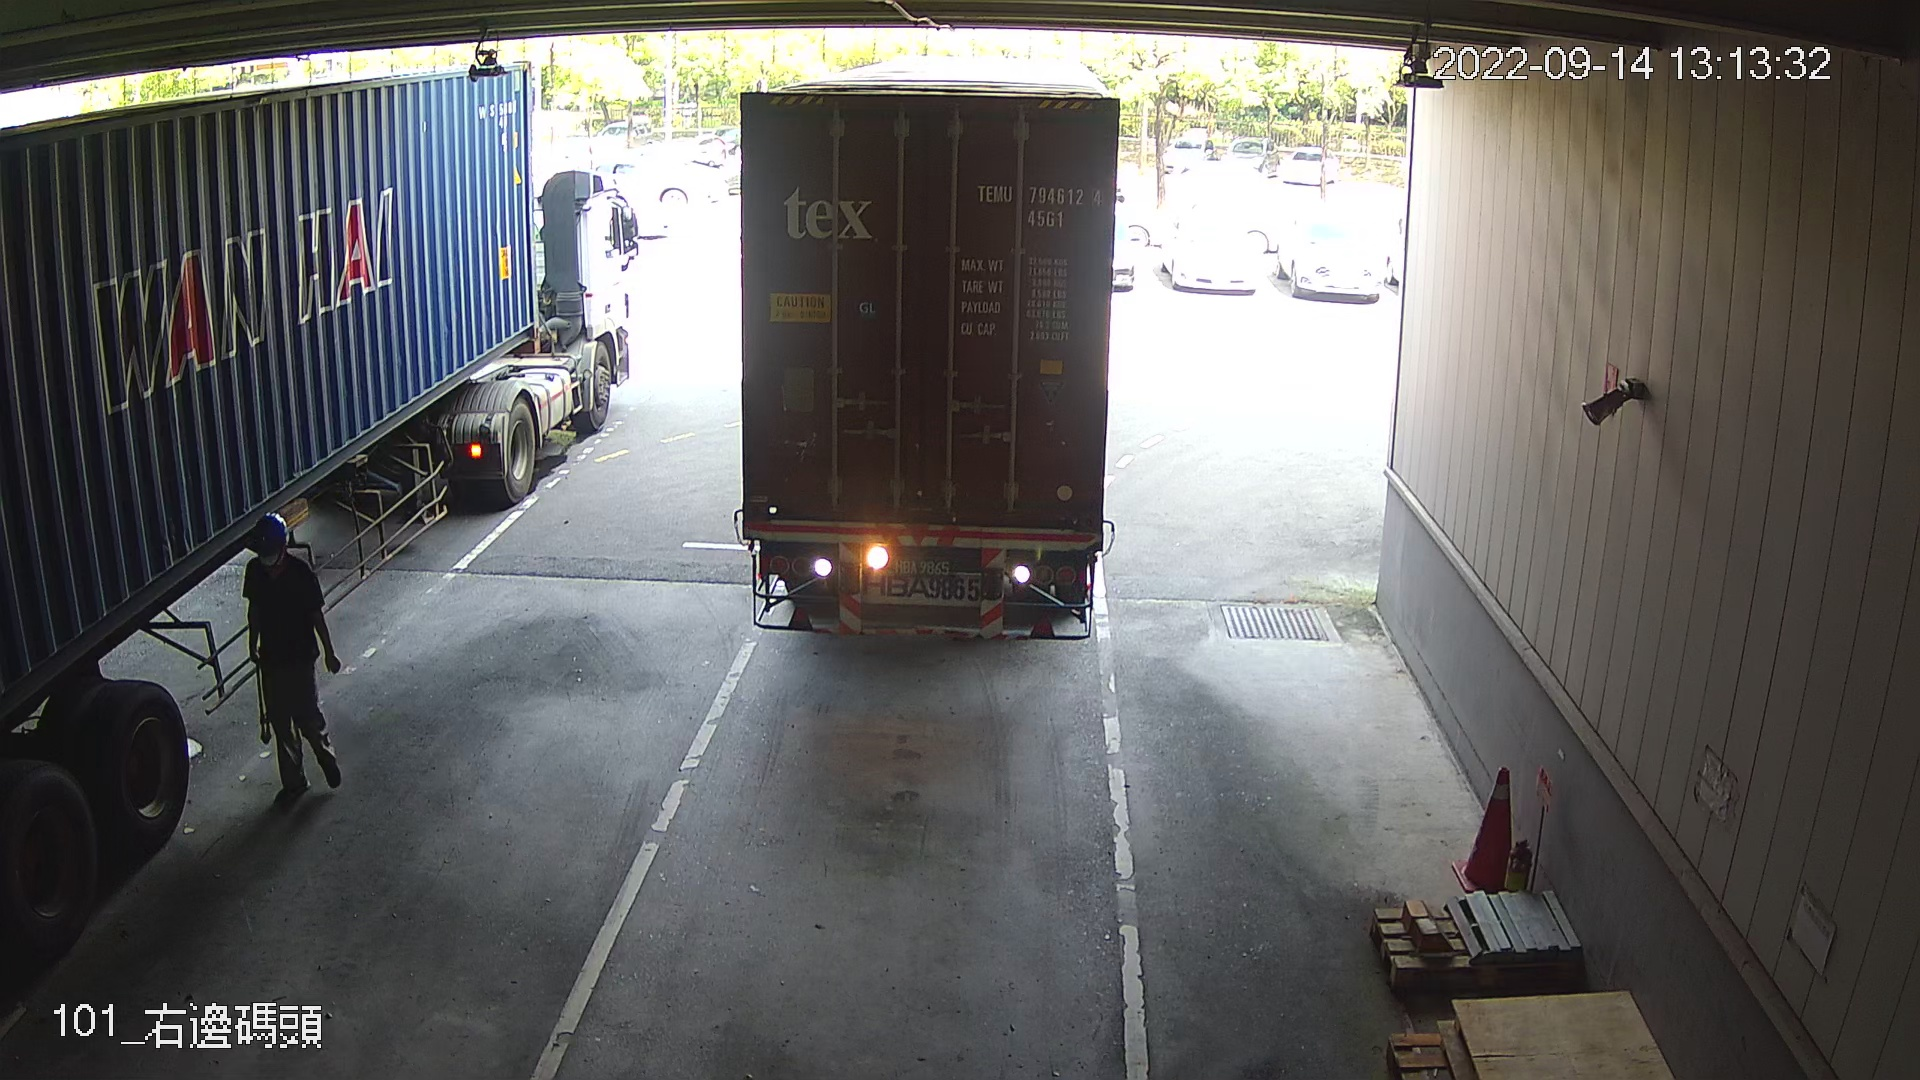container: (969, 173, 1106, 233)
